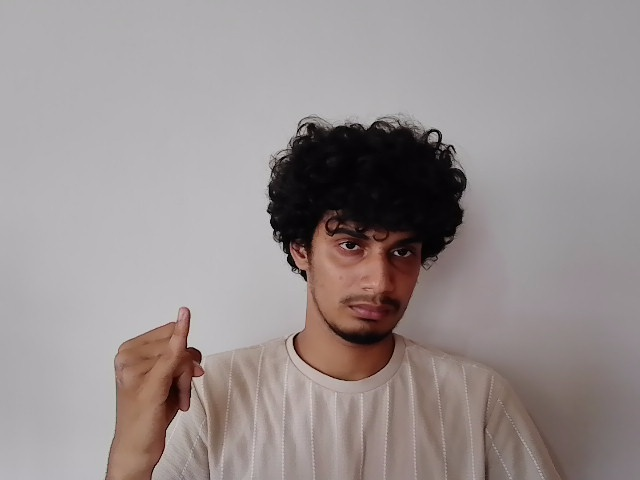bad: (111, 306, 206, 442)
